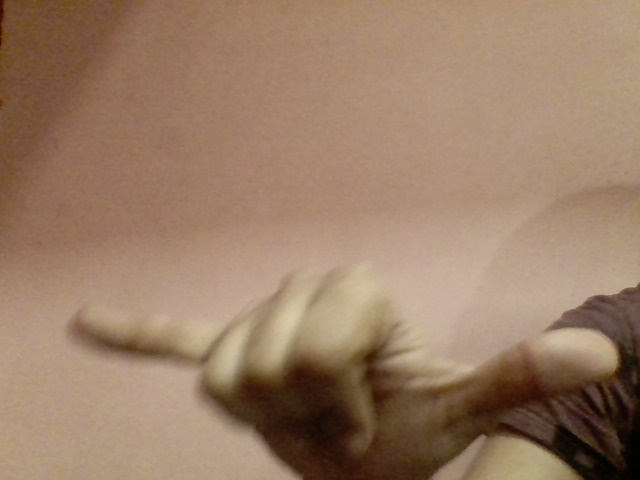y: (47, 256, 621, 462)
